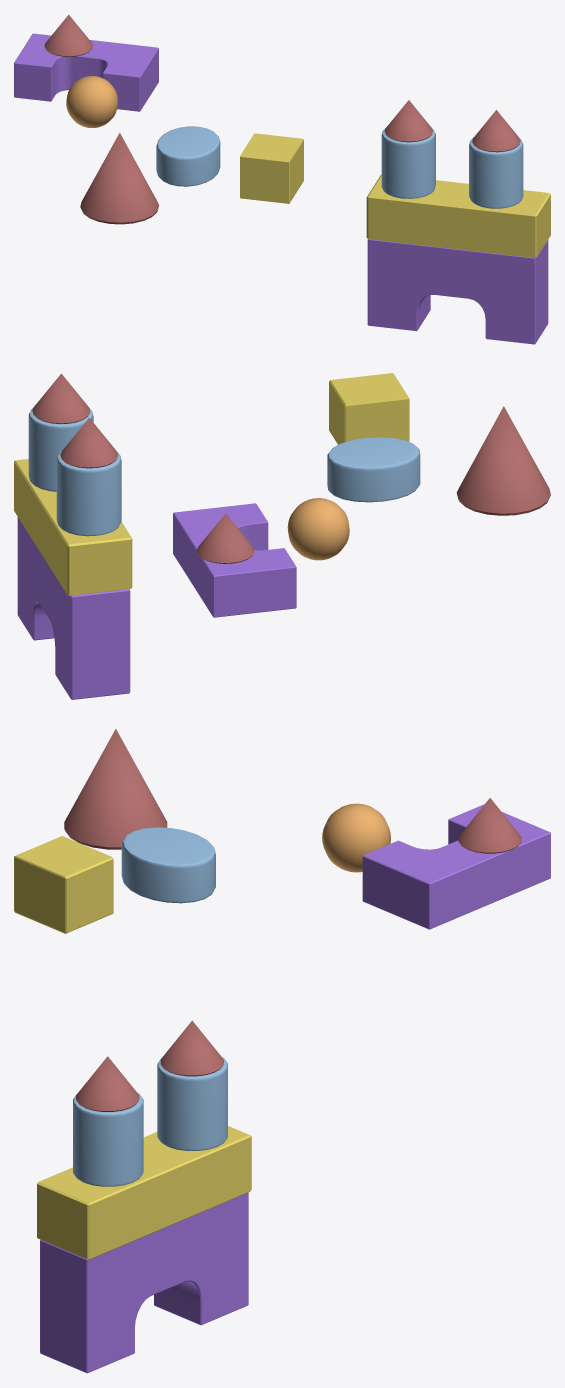
The model's file is Blocks.fbx.
The picture shows the model from 3 angles, top to bottom: view 1: azimuth 30°, elevation 25°; view 2: azimuth 150°, elevation 25°; view 3: azimuth 270°, elevation 25°; orthographic projection. The views are drawn at different scales.
Visible parts, largest first — view 1: block_bridge1, block_cube1, block_bridge2, block_cone4, block_cube2, block_cylinder3, block_cylinder2, block_cylinder1, block_sphere1, block_cone1, block_cone3, block_cone2; view 2: block_bridge1, block_bridge2, block_cube1, block_cone4, block_cylinder3, block_cube2, block_cylinder1, block_sphere1, block_cylinder2, block_cone1, block_cone3, block_cone2; view 3: block_bridge1, block_cube1, block_bridge2, block_cube2, block_cone4, block_cylinder3, block_cylinder1, block_cylinder2, block_sphere1, block_cone1, block_cone3, block_cone2.
Boxes of the visible parts, bbox=[...] form: block_bridge1: bbox=[367, 239, 548, 344]; block_cube1: bbox=[366, 174, 550, 257]; block_bridge2: bbox=[14, 33, 158, 111]; block_cone4: bbox=[80, 133, 159, 224]; block_cube2: bbox=[240, 133, 303, 203]; block_cylinder3: bbox=[156, 126, 220, 186]; block_cylinder2: bbox=[469, 137, 523, 208]; block_cylinder1: bbox=[381, 127, 435, 198]; block_sphere1: bbox=[66, 76, 117, 128]; block_cone1: bbox=[384, 100, 432, 142]; block_cone3: bbox=[44, 14, 92, 56]; block_cone2: bbox=[472, 110, 520, 152]; block_bridge1: bbox=[17, 517, 130, 699]; block_bridge2: bbox=[173, 503, 296, 617]; block_cube1: bbox=[14, 459, 132, 595]; block_cone4: bbox=[456, 406, 550, 515]; block_cylinder3: bbox=[327, 437, 420, 502]; block_cube2: bbox=[329, 373, 409, 444]; block_cylinder1: bbox=[56, 451, 121, 536]; block_sphere1: bbox=[287, 498, 349, 560]; block_cylinder2: bbox=[28, 407, 93, 491]; block_cone1: bbox=[60, 417, 118, 468]; block_cone3: bbox=[196, 513, 254, 563]; block_cone2: bbox=[32, 373, 90, 423]; block_bridge1: bbox=[40, 1192, 248, 1373]; block_cube1: bbox=[37, 1126, 251, 1259]; block_bridge2: bbox=[362, 804, 550, 929]; block_cube2: bbox=[14, 836, 113, 933]; block_cone4: bbox=[64, 729, 167, 849]; block_cylinder3: bbox=[121, 827, 215, 903]; block_cylinder1: bbox=[157, 1056, 227, 1150]; block_cylinder2: bbox=[73, 1092, 143, 1186]; block_sphere1: bbox=[322, 803, 390, 872]; block_cone1: bbox=[160, 1020, 223, 1076]; block_cone3: bbox=[458, 798, 521, 853]; block_cone2: bbox=[76, 1056, 139, 1111].
Bounding box in the file's own units: 11.12 × 6.68 × 8.64.
